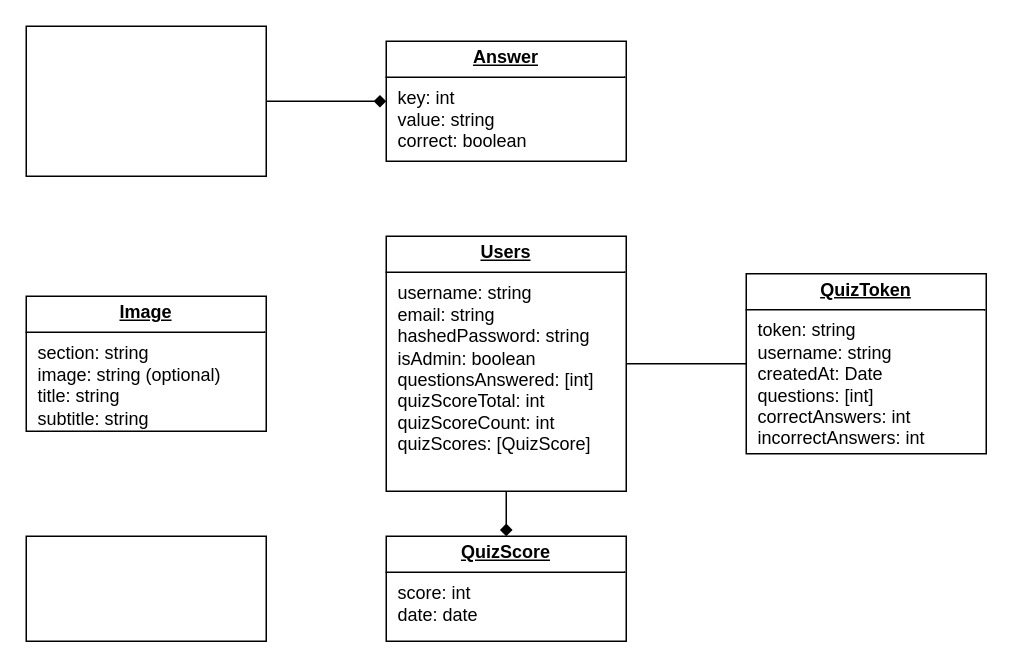
Image size: 1013x668. Some labels were removed from this diagram. Each missing label, with the centre of its shape:
Laws section: string article: [string]: pixel 145 588
Questions id: int title: string image: string (optional) answers: [Answer]: pixel 145 100
